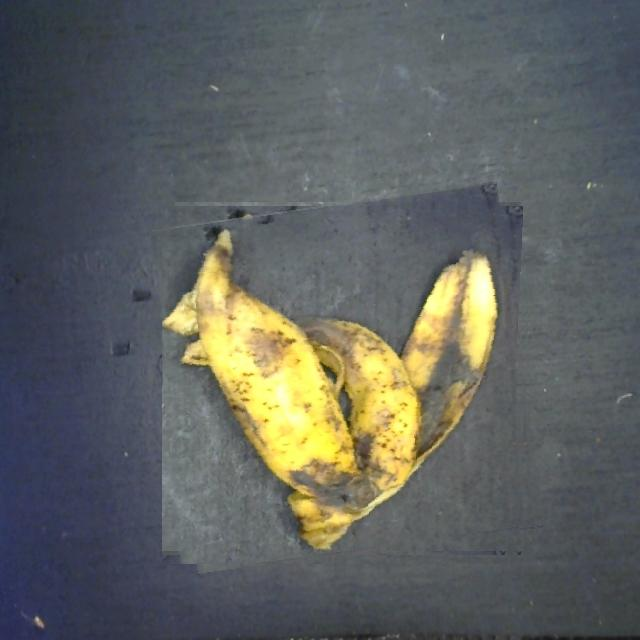biodegradable: (162, 193, 534, 564)
